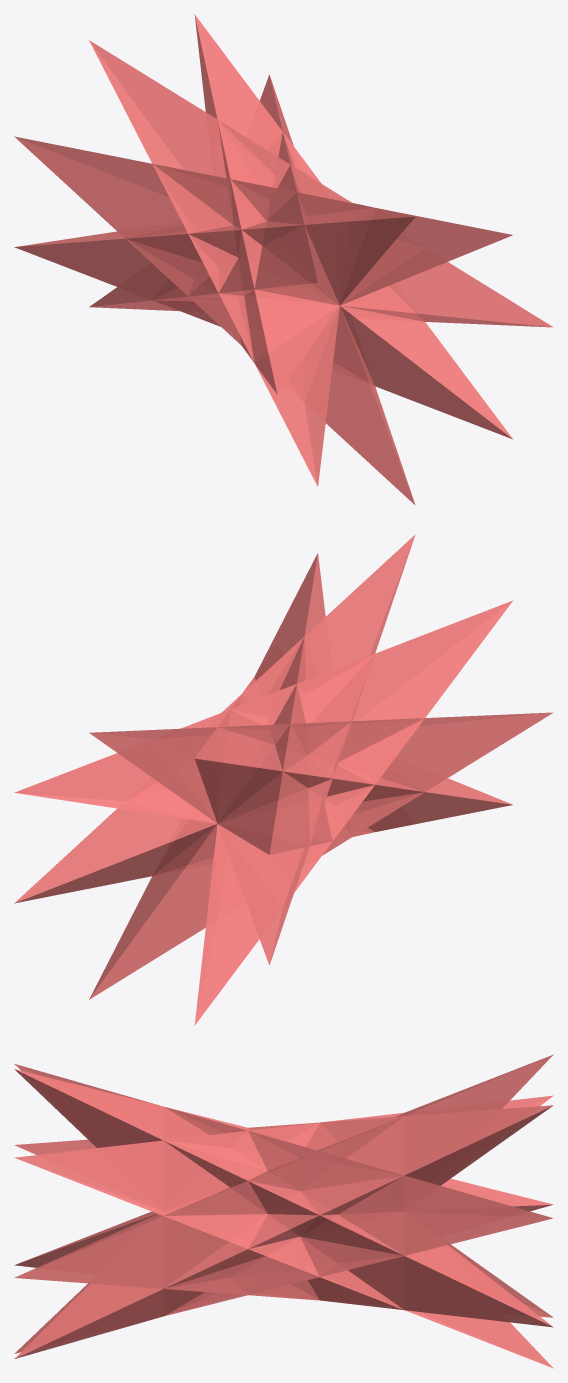
Rendered from OctagrammicConcaveTrapezohedron.obj.
3 views of the same model, one above another, from view 1: azimuth 30°, elevation 25°; view 2: azimuth 150°, elevation 25°; view 3: azimuth 270°, elevation 25° (orthographic).
Bounding box in the file's own units: 1.08 × 1.08 × 1.86.
